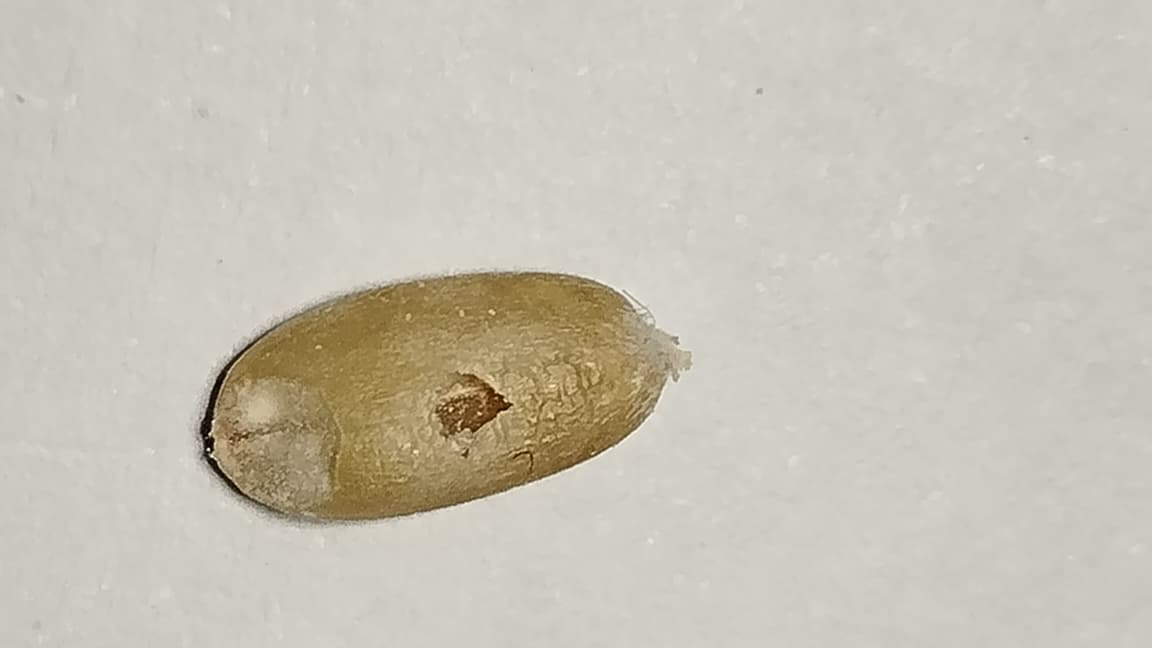damage: (200, 269, 716, 522)
insectdamage: (203, 377, 336, 504), (432, 366, 510, 458)
molddamage: (619, 288, 708, 401)
